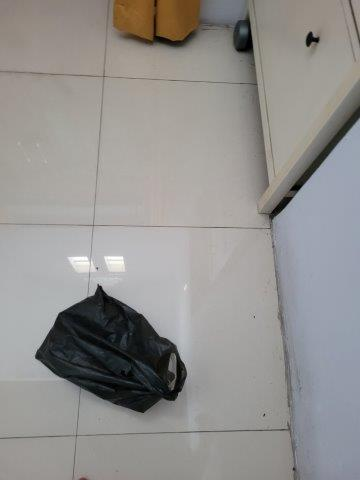plastik: (35, 286, 187, 412)
